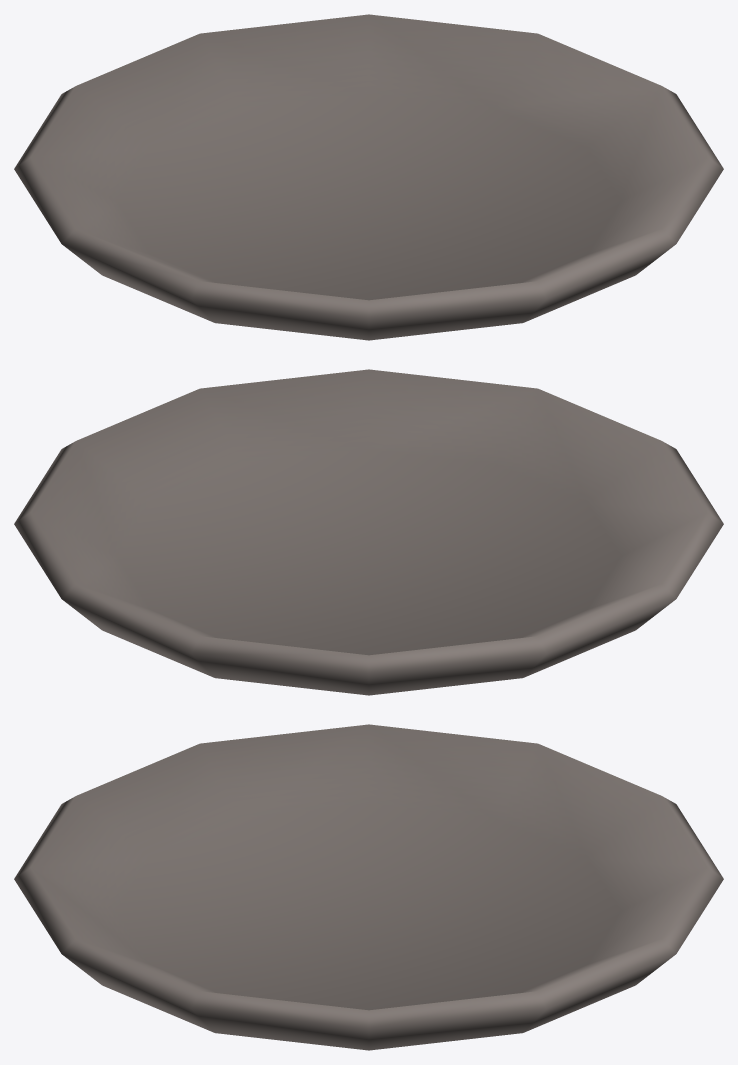
File: Dish2.fbx
3 renders of one model, top to bottom at view 1: azimuth 30°, elevation 25°; view 2: azimuth 150°, elevation 25°; view 3: azimuth 270°, elevation 25°, orthographic.
Visible parts, largest first — view 1: Dish2; view 2: Dish2; view 3: Dish2.
Boxes of the visible parts, <box> form: Dish2: <box>14,14,723,340</box>; Dish2: <box>14,369,723,695</box>; Dish2: <box>14,724,723,1050</box>.
Bounding box in the file's own units: 13.71 × 1.49 × 13.71.
